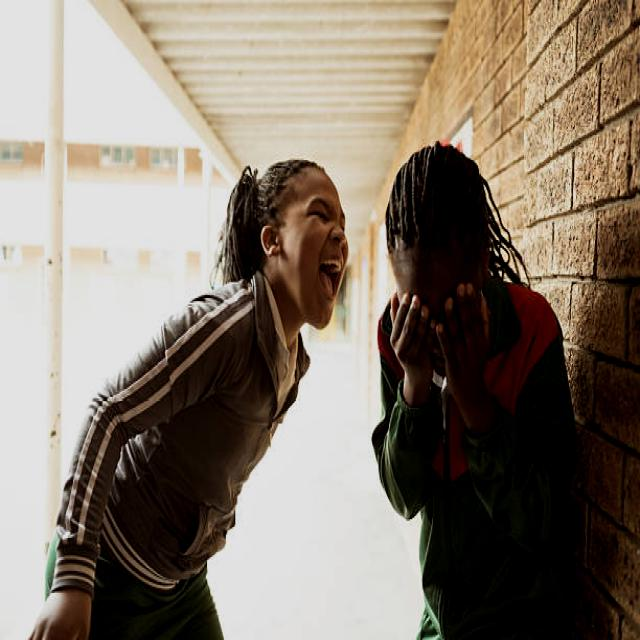fight: (170, 143, 556, 640)
